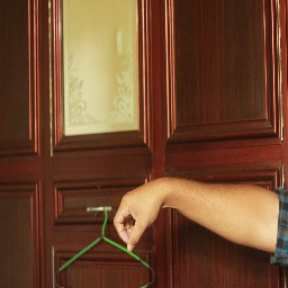O: (112, 179, 170, 255)
